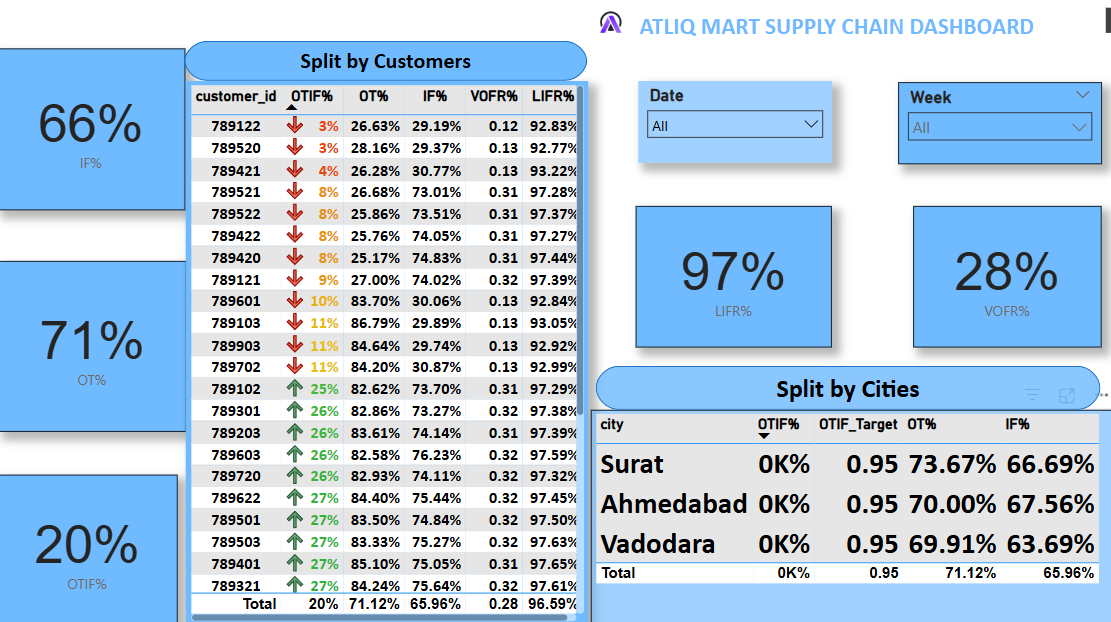

The page's visual inventory and layout, read from the dashboard file:
{"tool":"powerbi","page":{"name":"Page 1","canvas":[1280,720],"ordinal":0},"visuals":[{"type":"card","fields":{"Values":["atliq_mart_db customer.IF%"]},"box":[0,60,215,185],"z":0},{"type":"card","fields":{"Values":["atliq_mart_db customer.OTIF%"]},"box":[0,547.3,206.5,172.9],"z":1000},{"type":"card","fields":{"Values":["atliq_mart_db customer.OT%"]},"box":[1.7,303.3,215,195],"z":2000},{"type":"tableEx","fields":{"Values":["atliq_mart_db customer.customer_id","atliq_mart_db customer.OTIF%","atliq_mart_db customer.OT%","atliq_mart_db customer.IF%","atliq_mart_db customer.VOFR%","atliq_mart_db customer.LIFR%"]},"box":[215.7,97.1,460,622.9],"z":3000},{"type":"card","fields":{"Values":["atliq_mart_db customer.LIFR%"]},"box":[730.2,240.1,223.9,161.7],"z":4000},{"type":"card","fields":{"Values":["atliq_mart_db customer.VOFR%"]},"box":[1047.4,240.1,215.2,161.7],"z":5000},{"type":"tableEx","fields":{"Values":["atliq_mart_db customer.city","atliq_mart_db customer.OTIF%","atliq_mart_db customer.OTIF_Target","atliq_mart_db customer.OT%","atliq_mart_db customer.IF%"]},"box":[678,472.7,602.1,247.5],"z":6000},{"type":"slicer","fields":{"Values":["atliq_mart_db dim_date.date"]},"box":[732.7,97,221.4,93.3],"z":7000},{"type":"slicer","fields":{"Values":["atliq_mart_db dim_date.mmm_yy"]},"box":[1030,98.3,232.6,93.3],"z":8000},{"type":"textbox","box":[606.7,8.3,673.3,43.3],"z":9000},{"type":"shape","box":[685,423.3,576.7,50],"z":11000},{"type":"shape","box":[214.7,51.5,460.1,45.4],"z":12000},{"type":"image","box":[674.3,4.3,54.3,51.4],"z":12001}]}

Visuals, with their boxes in screenshot pixels (x1, y1, x2, y2), scaled from the page's 1280x720 canvas onto the 1111x622 screenshot:
card - atliq_mart_db customer.IF%: region(0, 52, 187, 212)
card - atliq_mart_db customer.OTIF%: region(0, 473, 179, 621)
card - atliq_mart_db customer.OT%: region(1, 262, 188, 430)
tableEx - atliq_mart_db customer.customer_id x atliq_mart_db customer.OTIF%: region(187, 84, 586, 621)
card - atliq_mart_db customer.LIFR%: region(634, 207, 828, 347)
card - atliq_mart_db customer.VOFR%: region(909, 207, 1096, 347)
tableEx - atliq_mart_db customer.city x atliq_mart_db customer.OTIF%: region(588, 408, 1110, 621)
slicer - atliq_mart_db dim_date.date: region(636, 84, 828, 164)
slicer - atliq_mart_db dim_date.mmm_yy: region(894, 85, 1096, 166)
textbox: region(527, 7, 1110, 45)
shape: region(595, 366, 1095, 409)
shape: region(186, 44, 586, 84)
image: region(585, 4, 632, 48)
